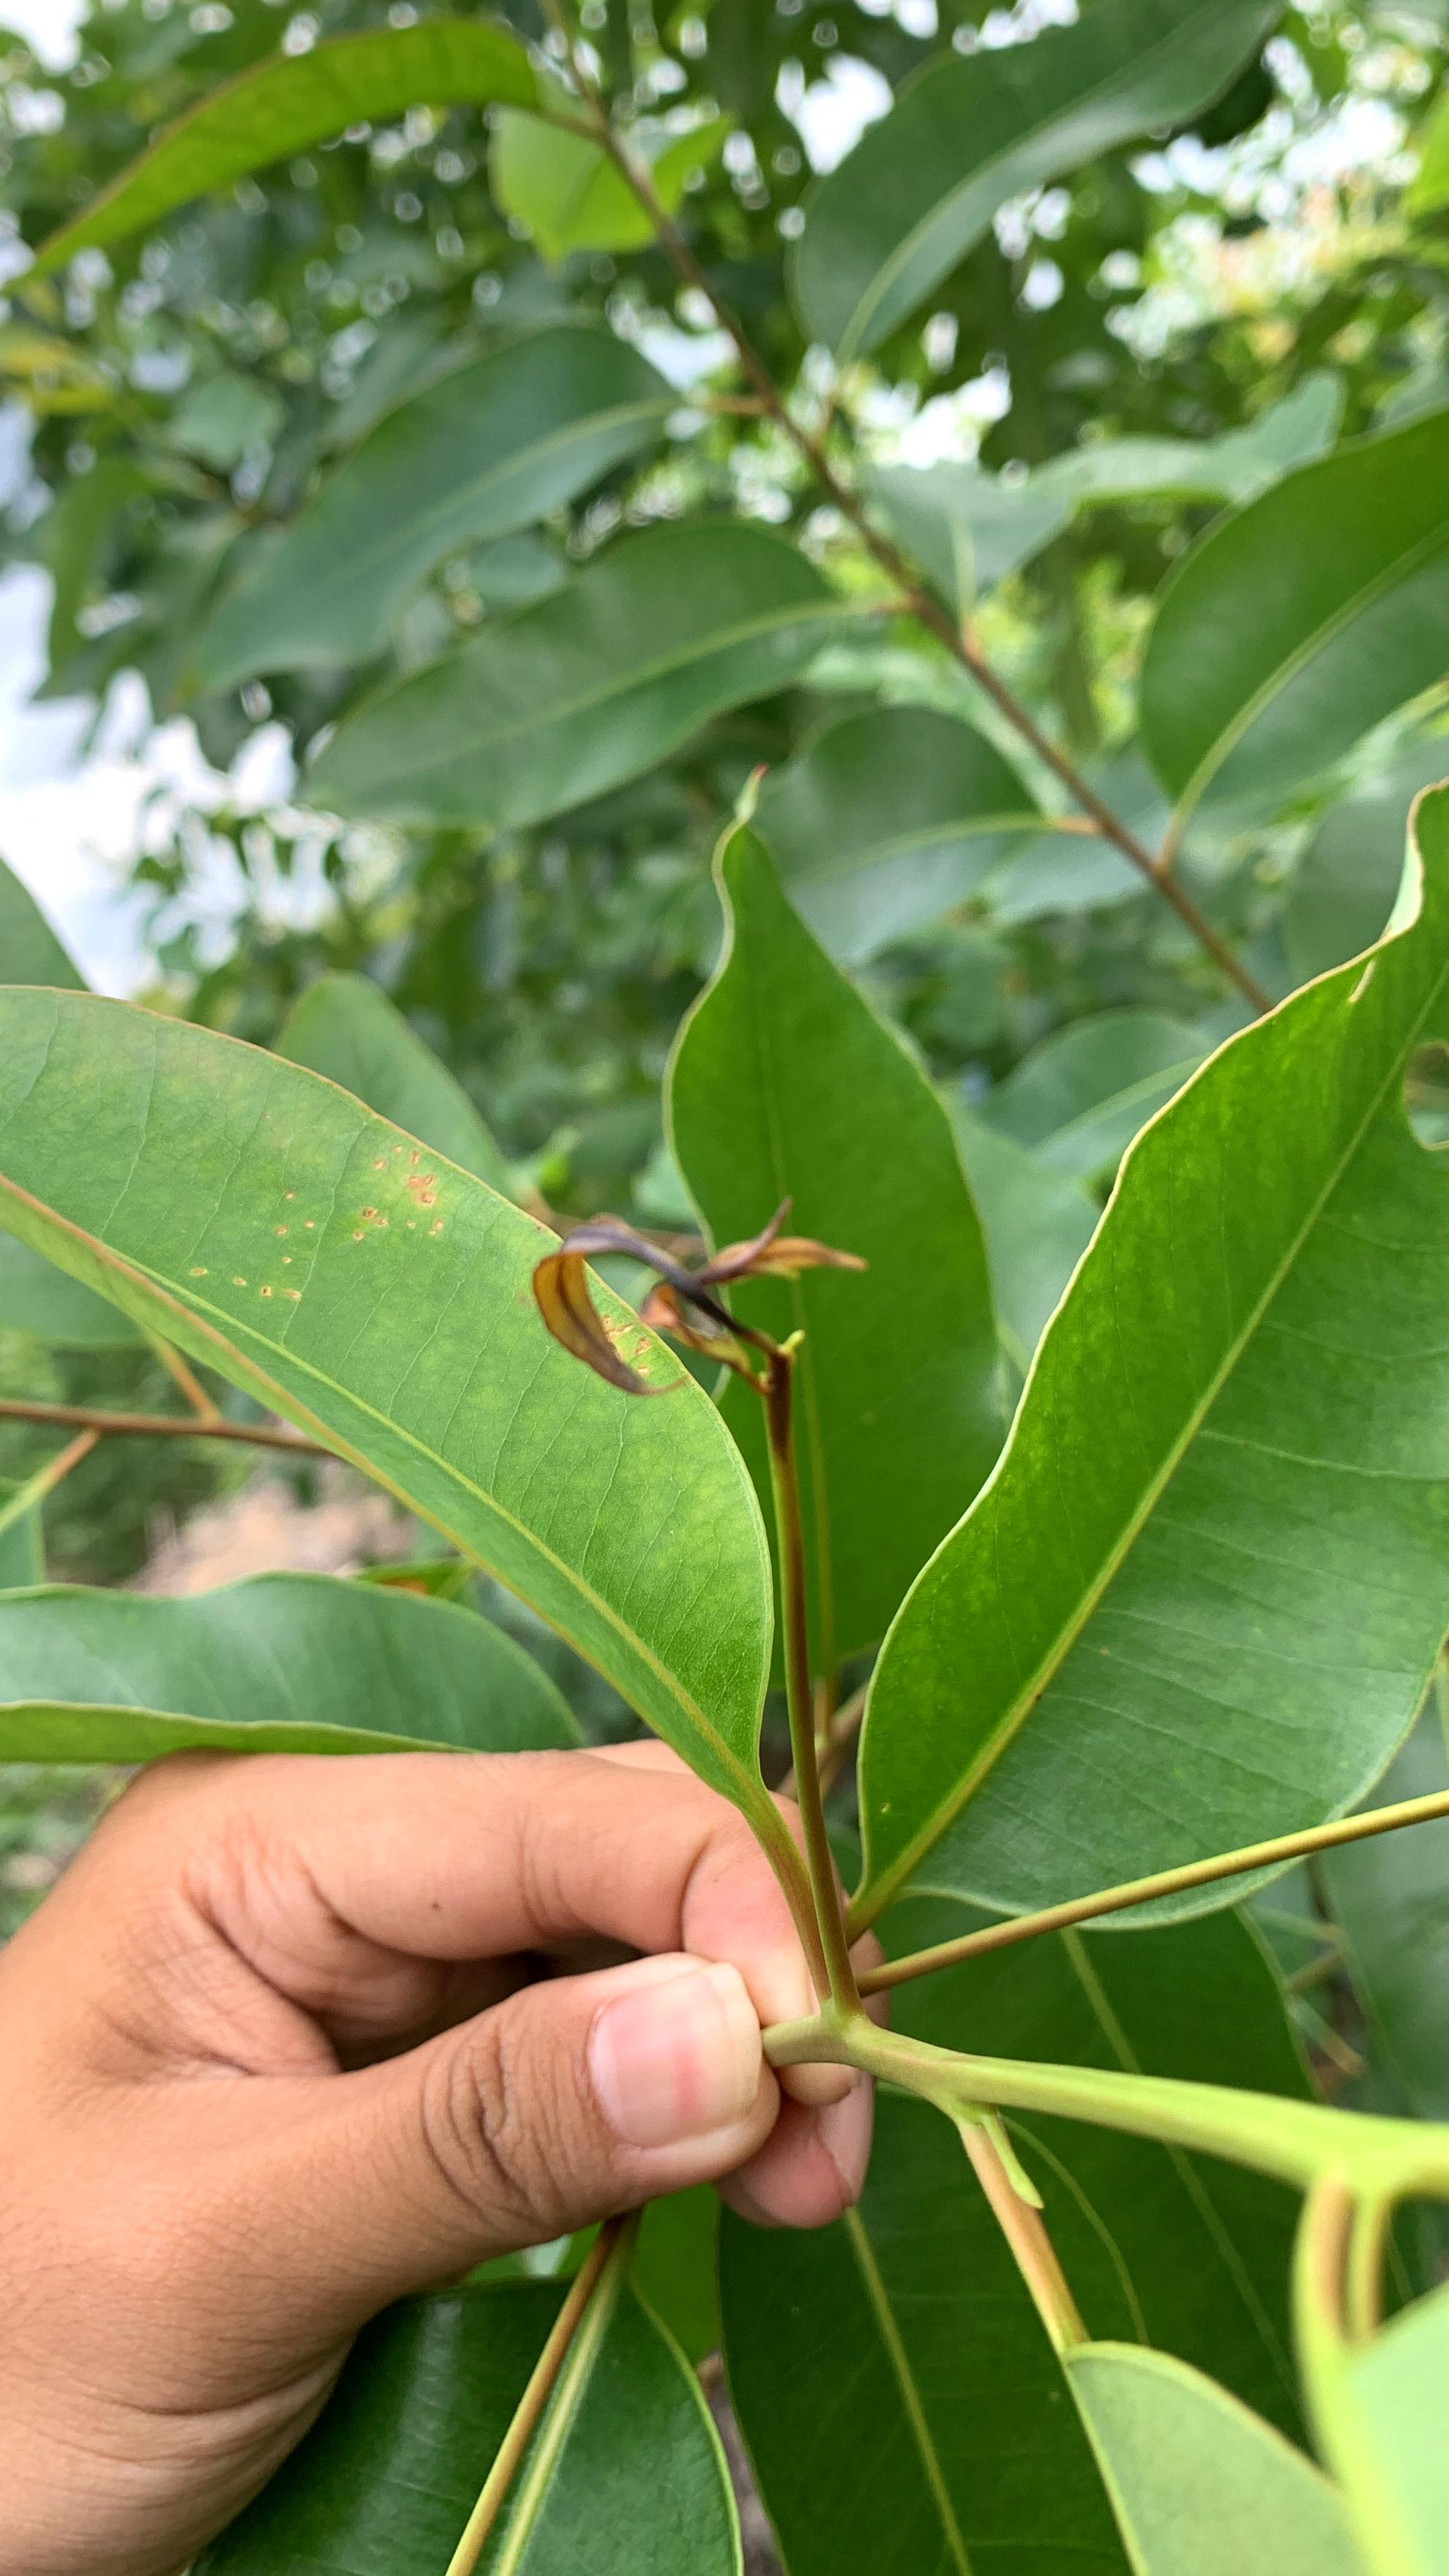Helopeltis-Withered Sprout: (513, 1175, 823, 1401)
